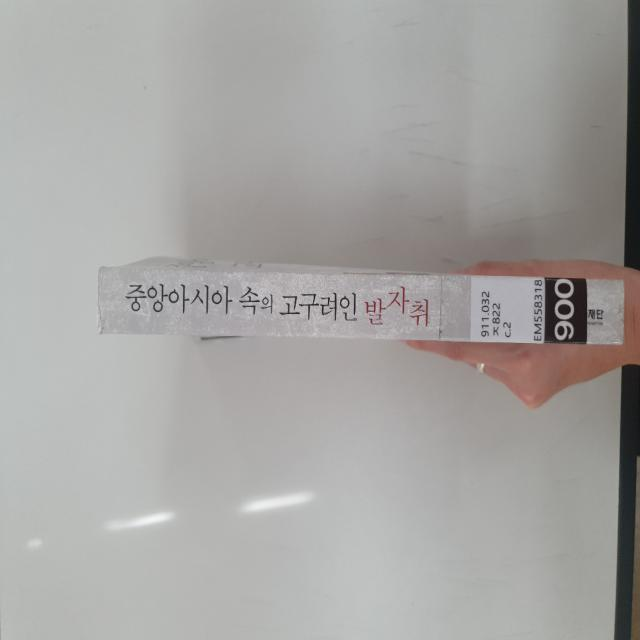Wornout: (89, 263, 110, 341)
